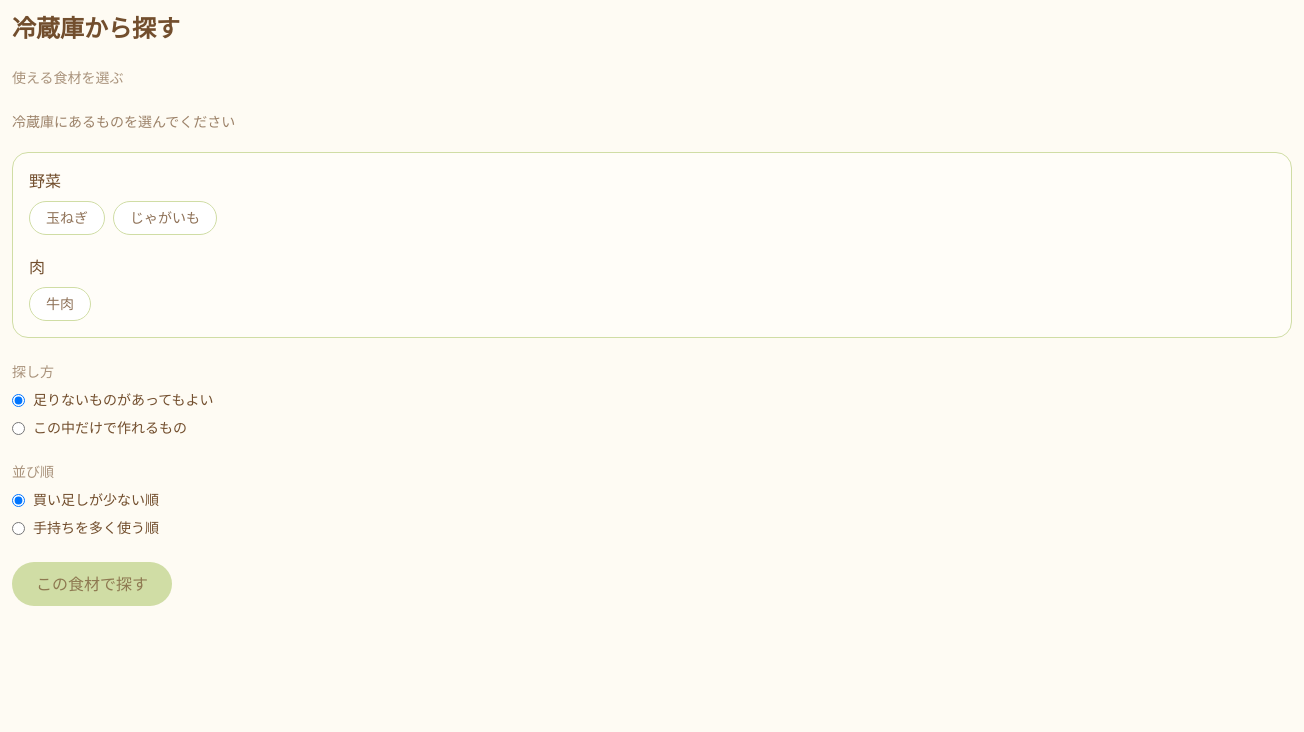
it: 冷蔵庫から探す › 検索に失敗したら知らせる
Step 1. Click the checkbox labelled "玉ねぎ" → point(67, 218), box x1=29 y1=201 x2=105 y2=235
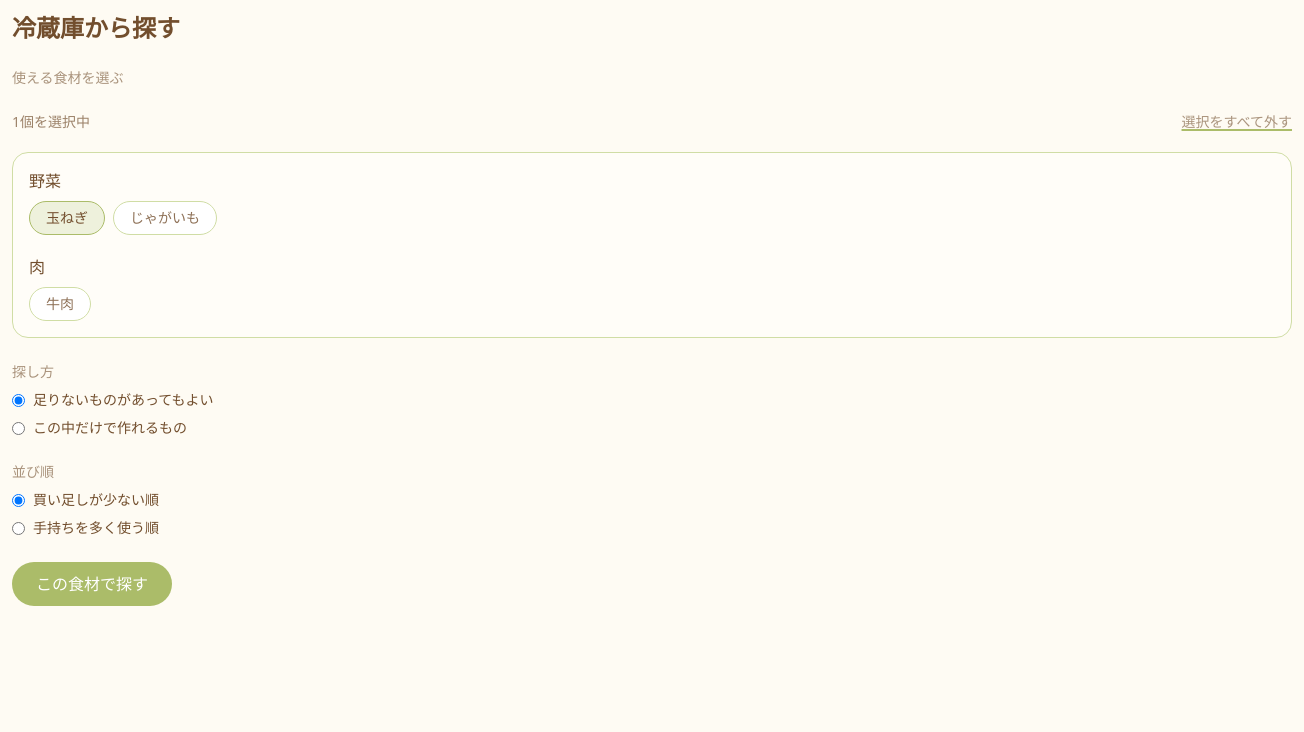
Step 2. Click the button "この食材で探す" → point(92, 584), box x1=12 y1=562 x2=172 y2=606
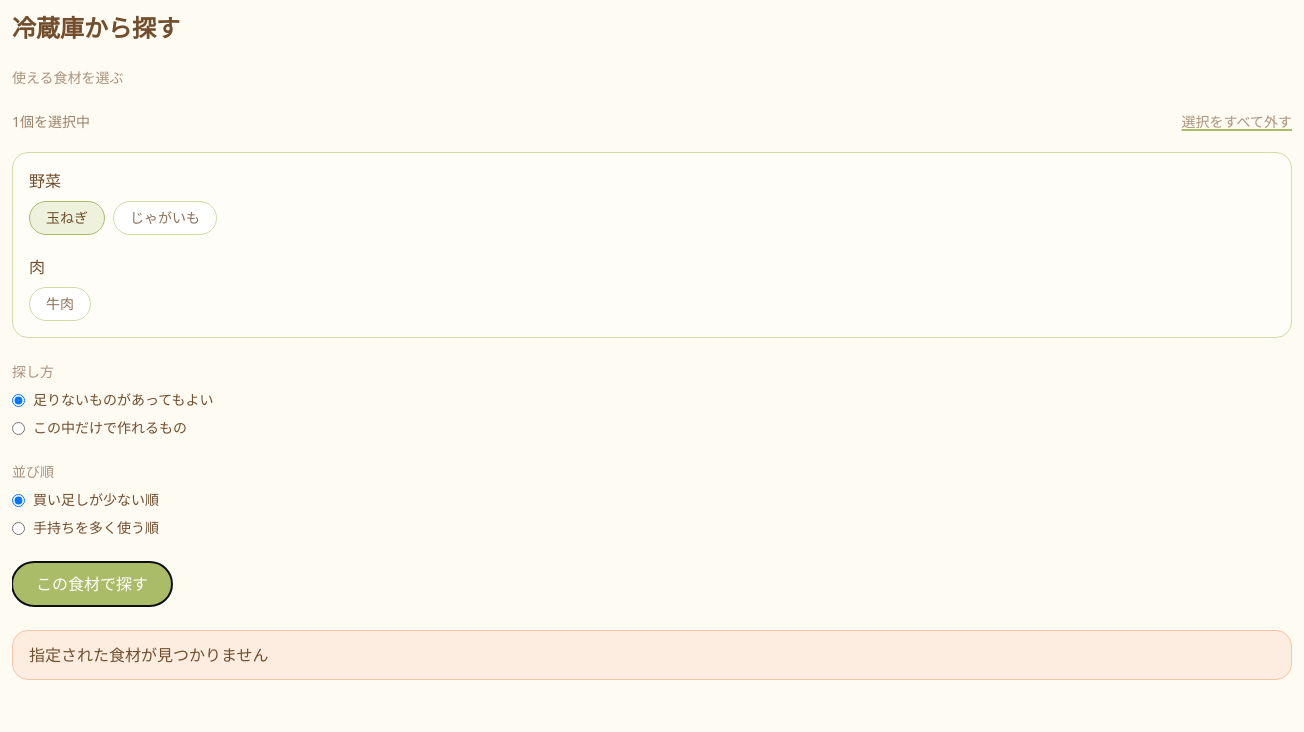
expect the message "指定された食材が見つかりません" is shown: met, box x1=12 y1=630 x2=1292 y2=680
